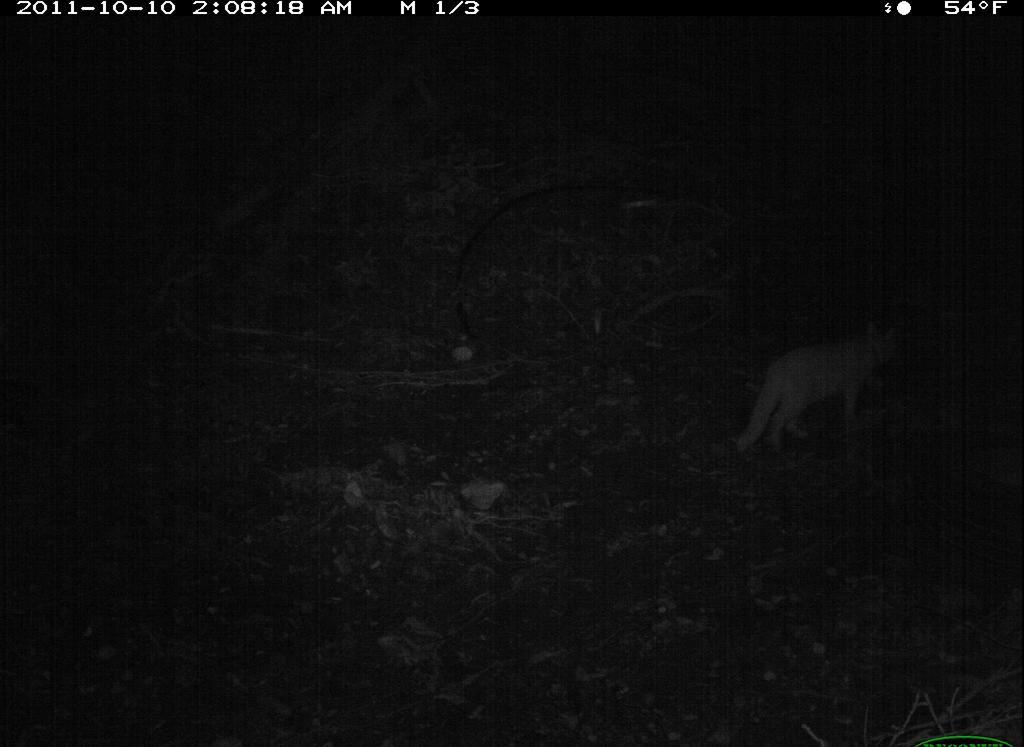cat: (733, 317, 932, 452)
